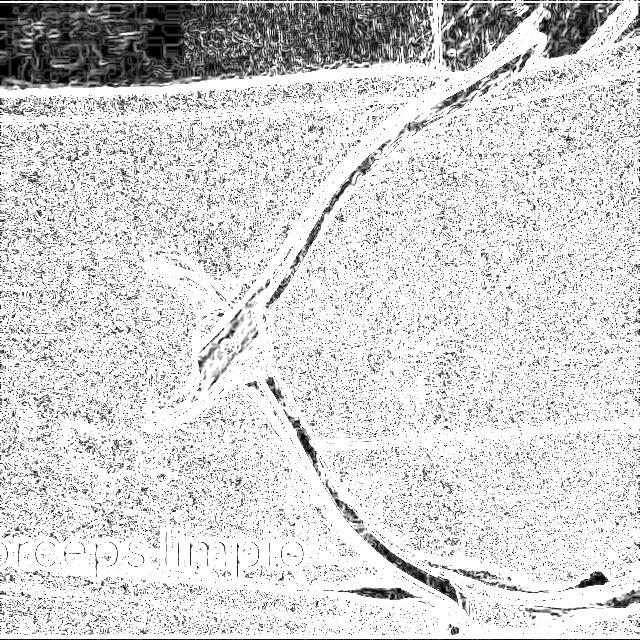forceps: (130, 33, 588, 623)
